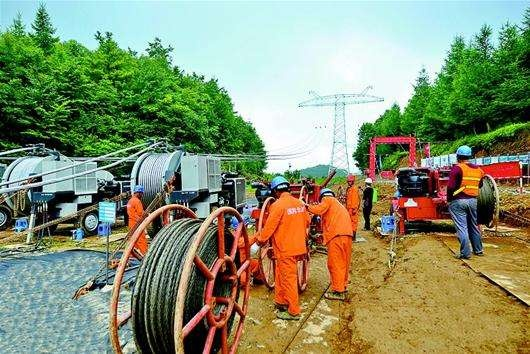blue: (270, 174, 291, 197), (454, 143, 473, 165), (132, 183, 144, 199)
red: (345, 171, 356, 186)
white: (363, 176, 373, 188)
